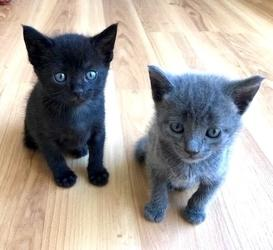rblue: (147, 58, 265, 165)
